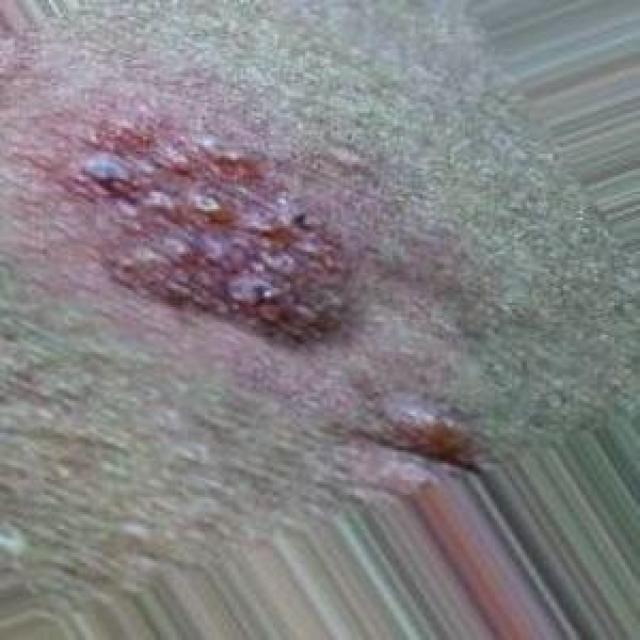Shingles: (72, 116, 350, 346)
